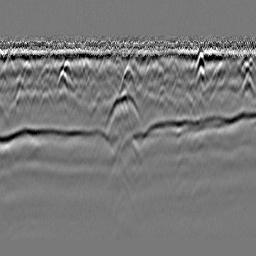cavity: (117, 64, 138, 94)
